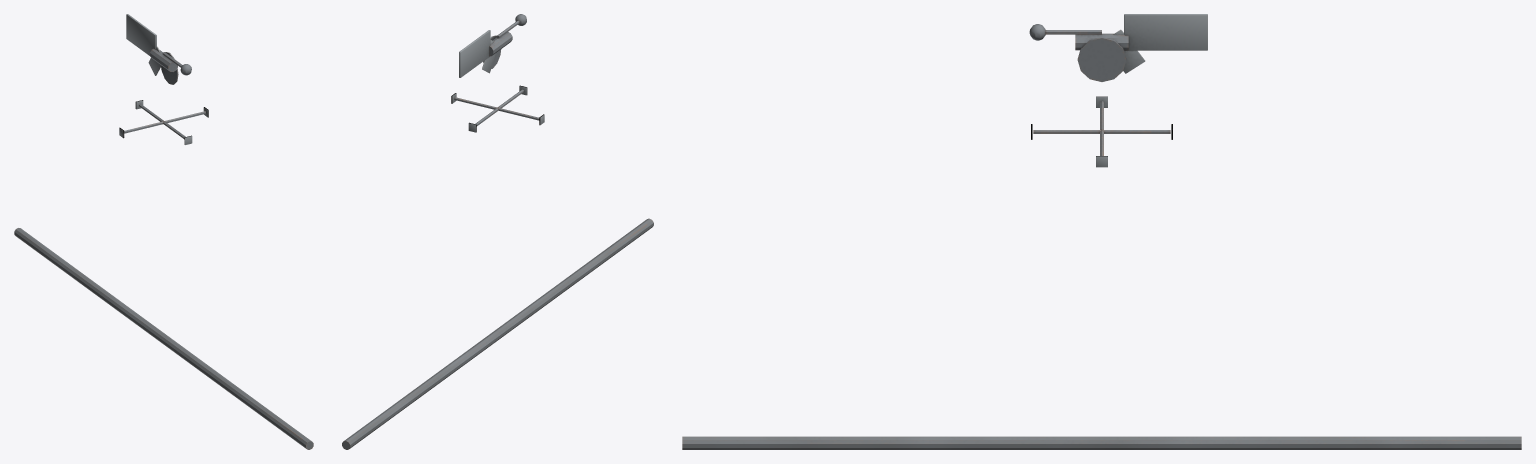
File: wild_vane.glb
3 renders of one model, left to right at view 1: azimuth 30°, elevation 25°; view 2: azimuth 150°, elevation 25°; view 3: azimuth 270°, elevation 25°, orthographic. The views are drawn at different scales.
Parts seen in each view (by area): view 1: wild_vane; view 2: wild_vane; view 3: wild_vane.
Boxes of the visible parts, x1,y1,x2,y2 form: wild_vane: (14,14,313,449); wild_vane: (342,14,653,449); wild_vane: (682,14,1521,449).
Bounding box in the file's own units: 0.93 × 3.15 × 5.5.
Materials: 1 (1 with a texture image).
